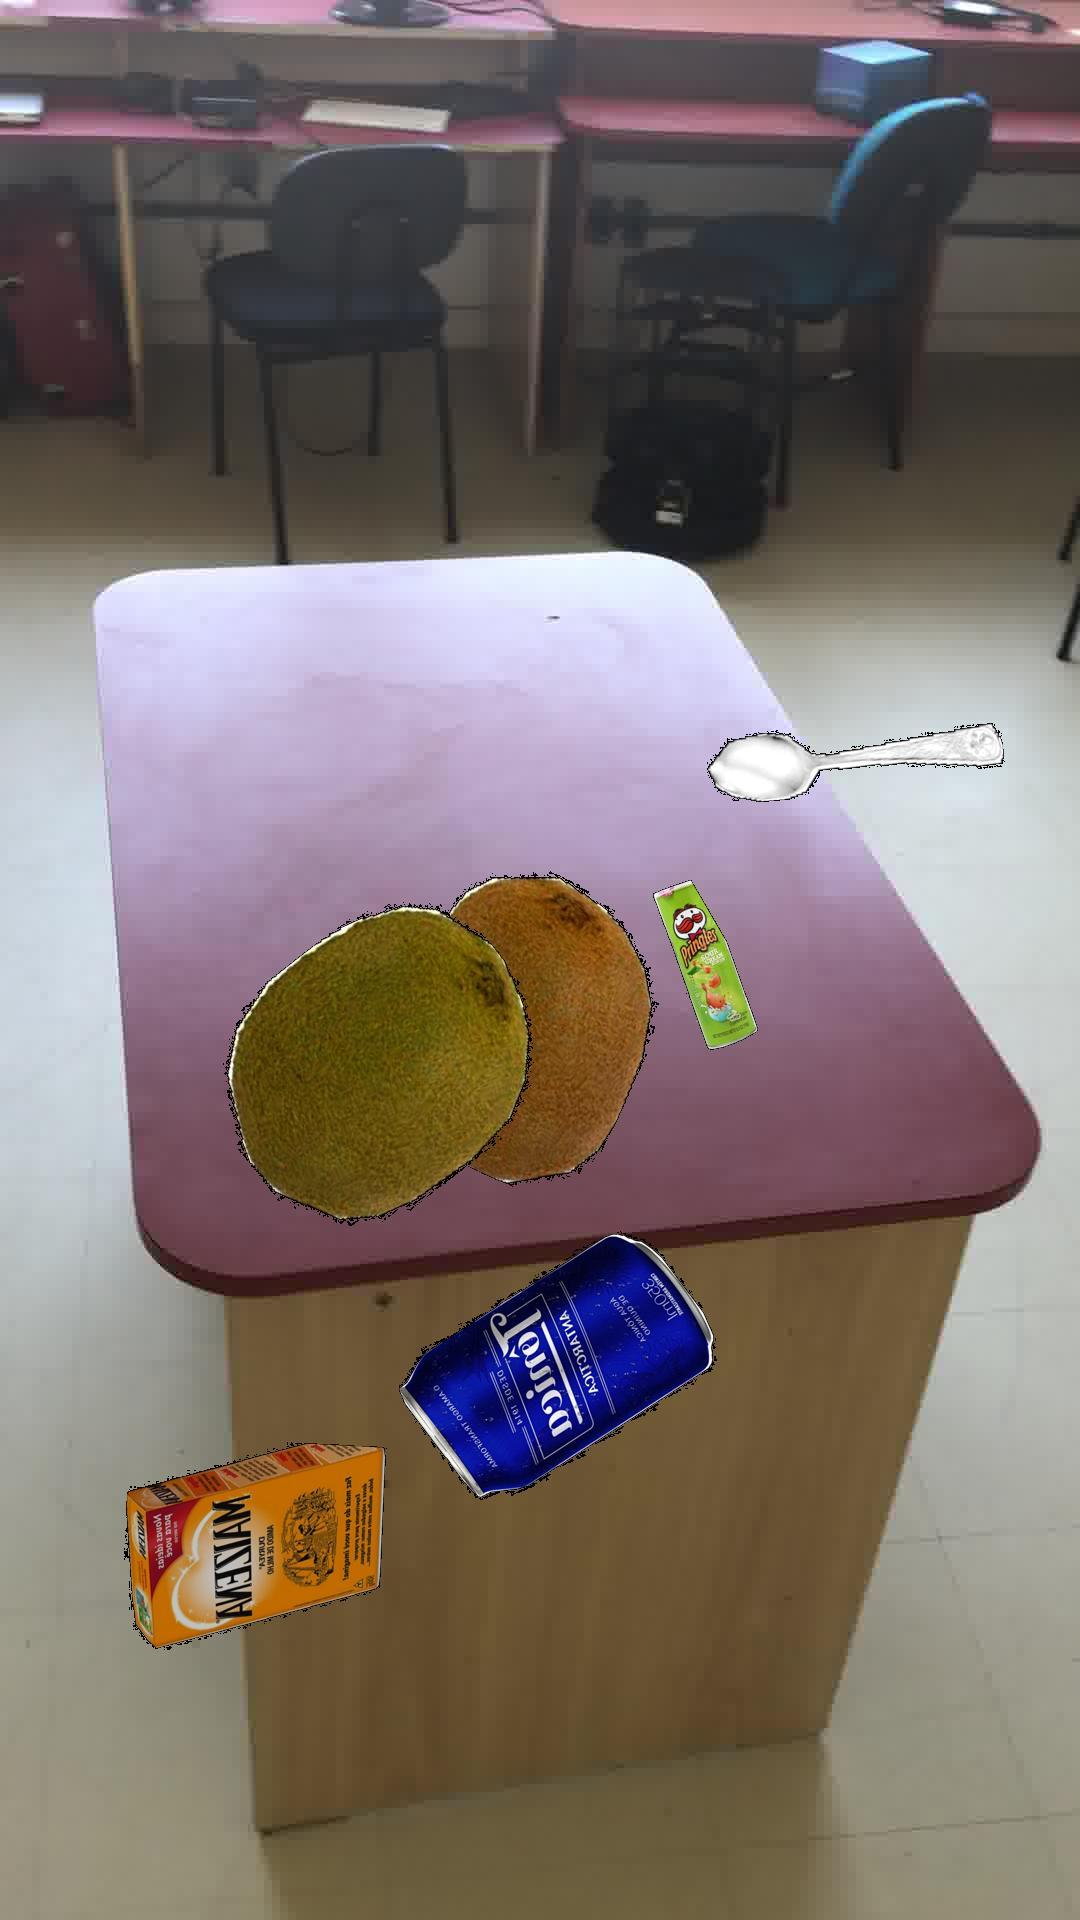kiwi: (223, 902, 531, 1225), (447, 870, 658, 1184)
pringles: (651, 878, 757, 1048)
spoon: (705, 721, 1002, 800)
tonic: (397, 1233, 715, 1498)
